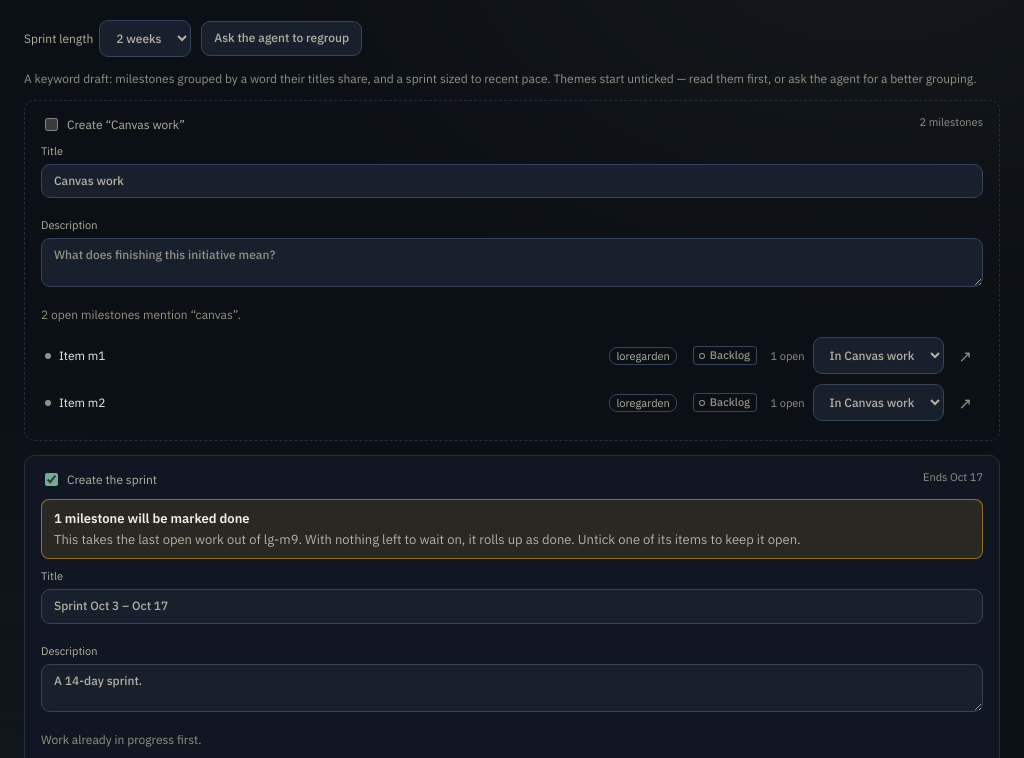
Test case: the agent's regroup is cancellable, and its failure is shown beside the button
Click the button "Ask the agent to regroup" at {"x": 282, "y": 38}, box [201, 21, 362, 56]
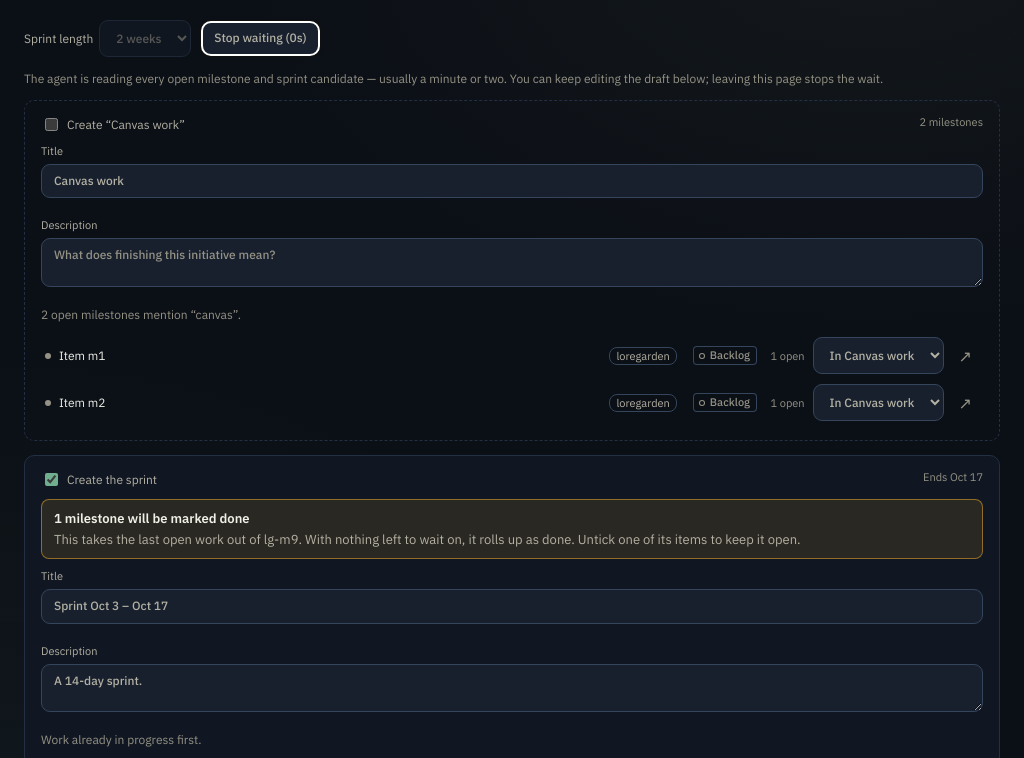
Click the button "Stop waiting (0s)" at {"x": 260, "y": 38}, box [201, 21, 320, 56]
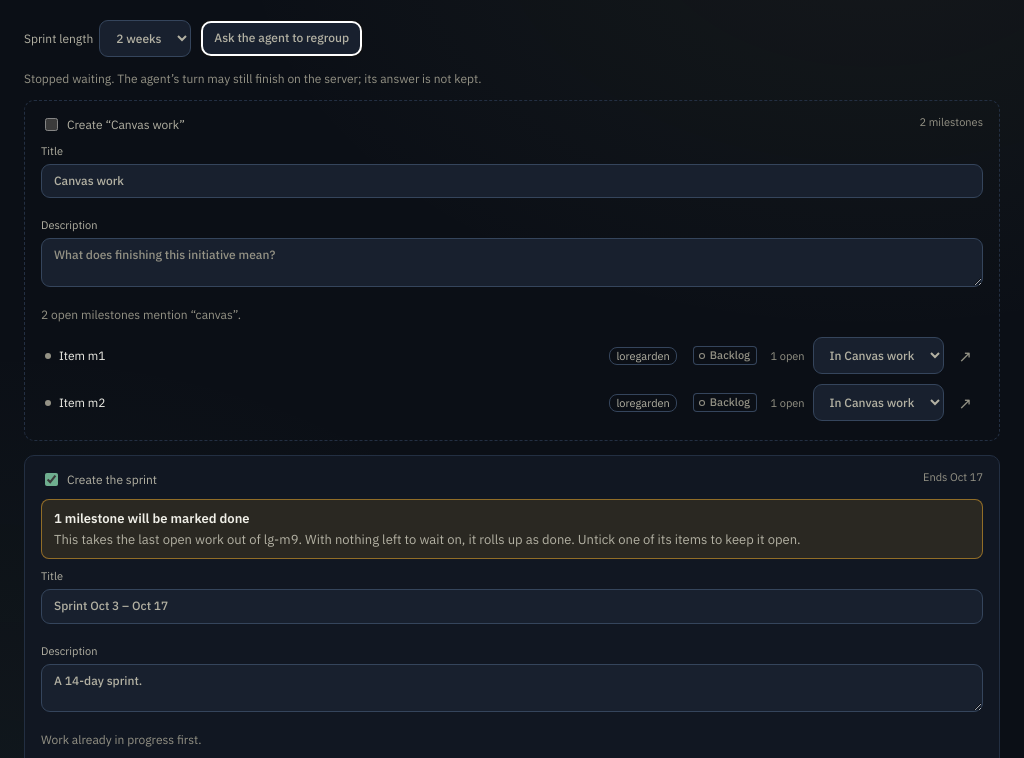
Check: the text "Stopped waiting" is shown, box [24, 71, 482, 86]
Click the button "Ask the agent to regroup" at {"x": 282, "y": 38}, box [201, 21, 362, 56]
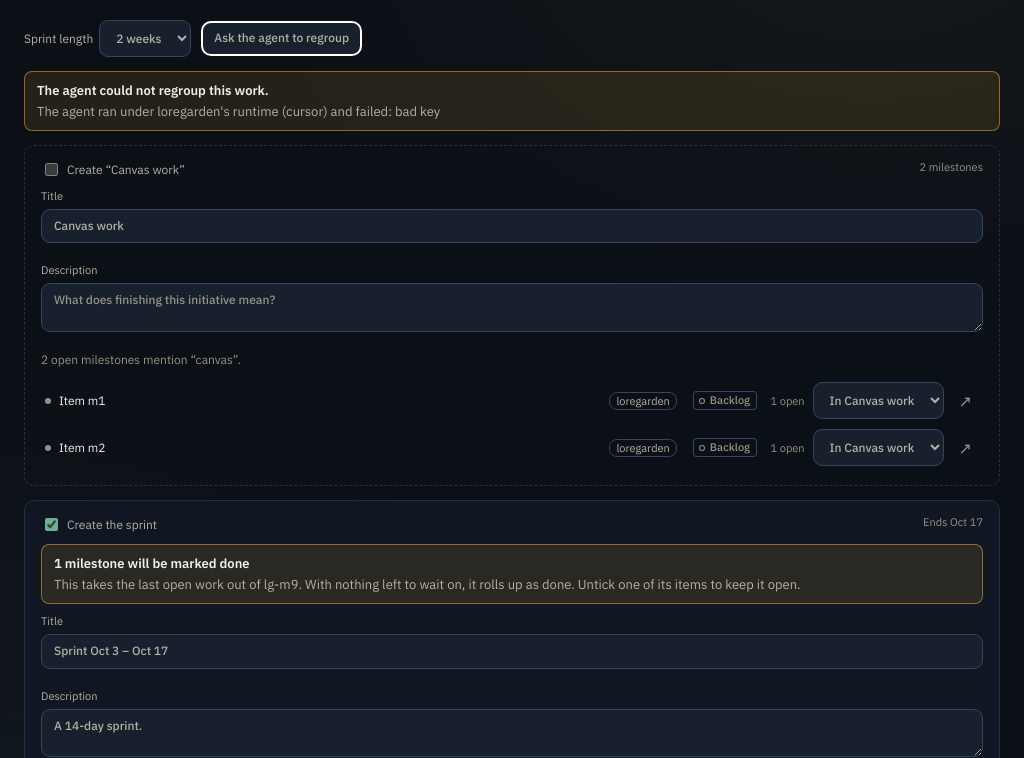
Check: the message that starts with "The agent could not regroup this work." shows "runtime (cursor) and failed: bad key", box [37, 103, 440, 120]
